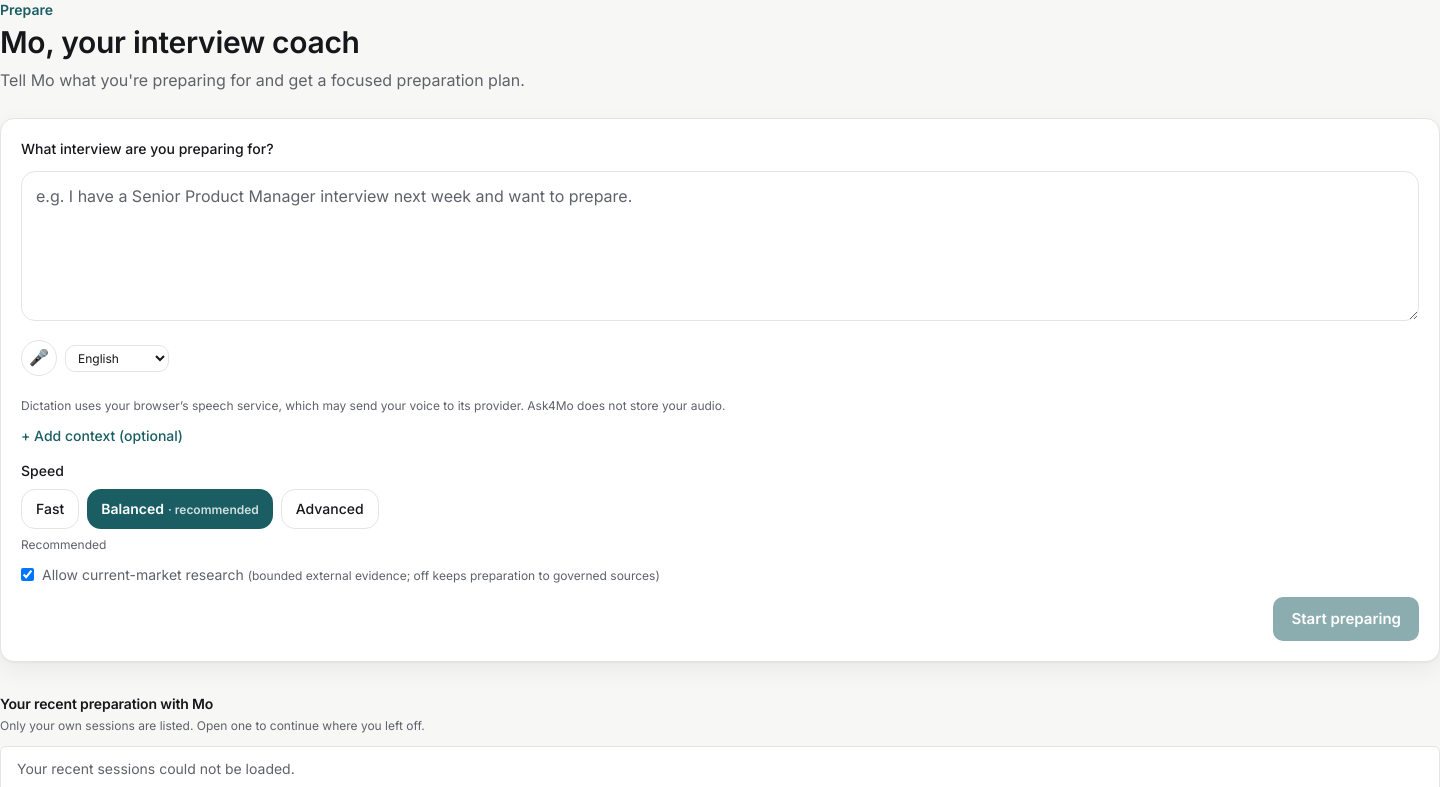
Test case: Agent answer feedback › is hidden while awaiting a human decision
The width and height of the screenshot is (1440, 787).
Type "Prep" into the text box labelled "What interview are you preparing for?" at (720, 246), box [21,171,1419,321]
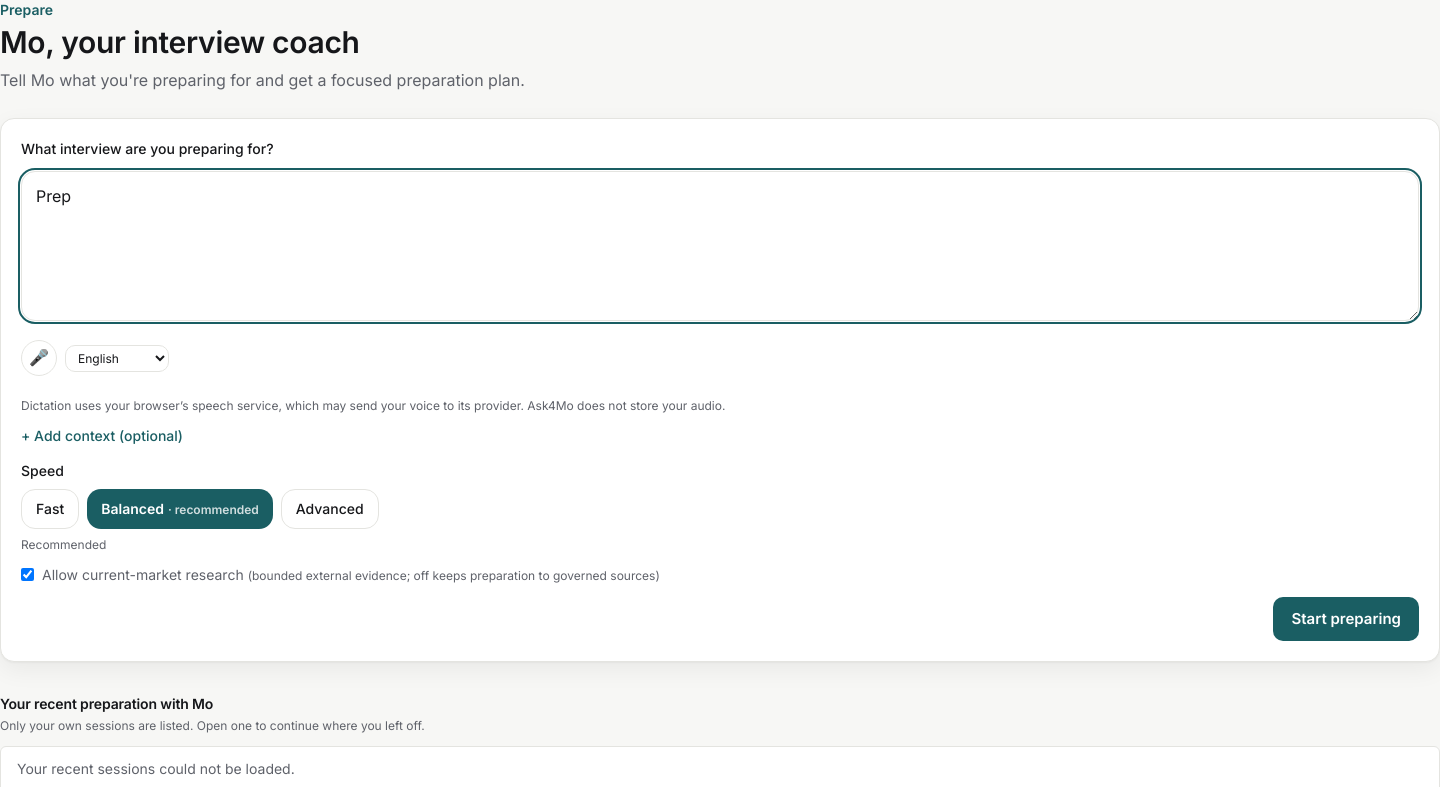
Click the button "Start preparing" at (1346, 619), box [1273,597,1419,641]
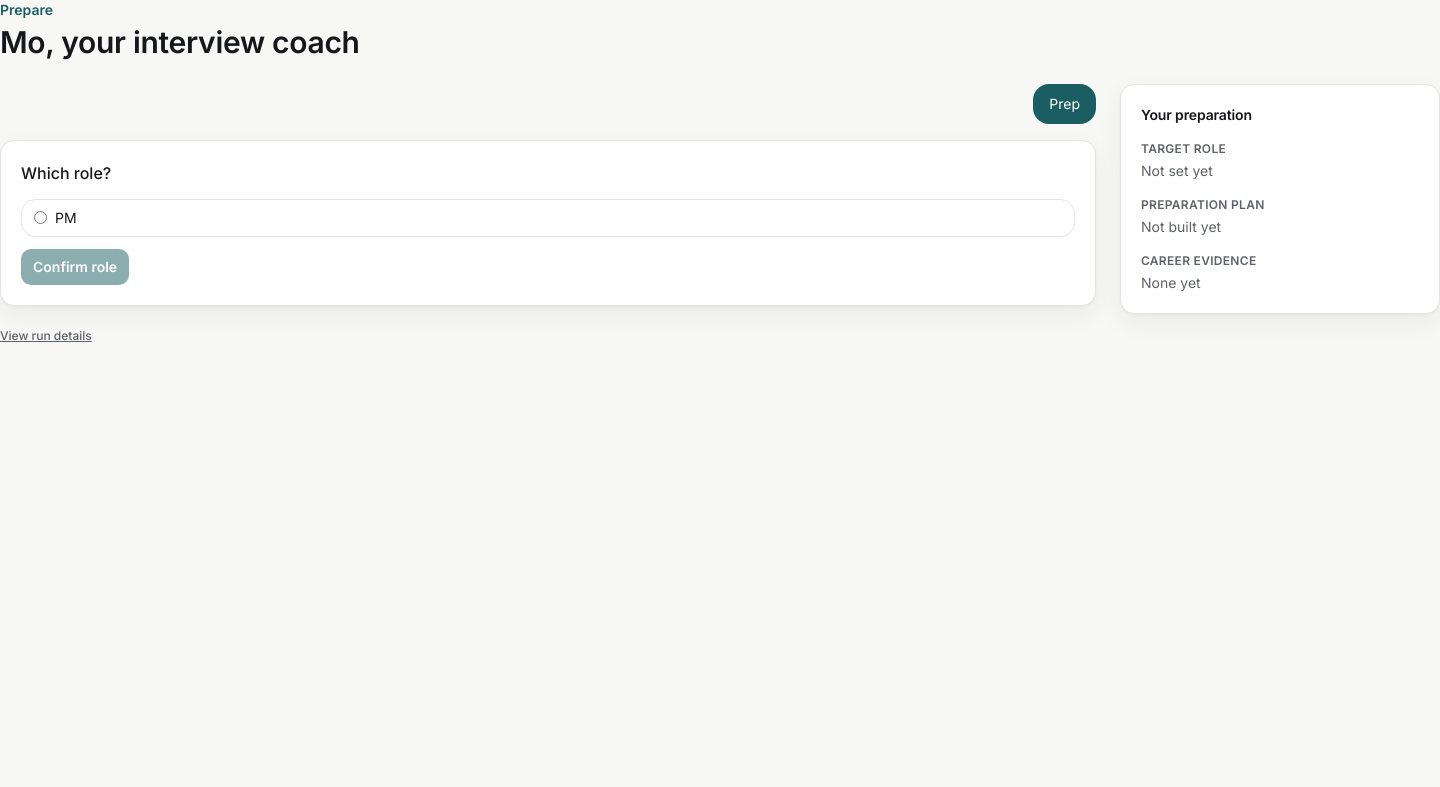
Expected: the text "Which role?" is shown, [21,163,111,183]
